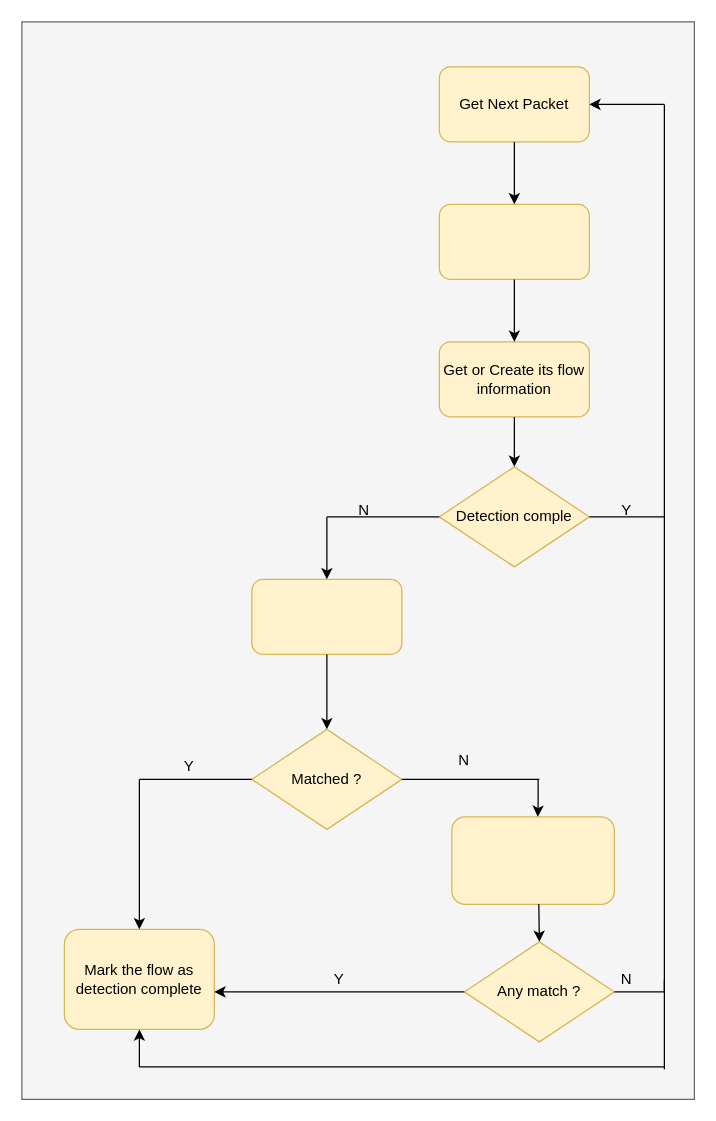
Some shapes in this 716 by 1121 pixel diagram are drawn without their labels. The box of each missing label's shape, as (x1, y1, x2, y2) in pixels:
Decode The Packet: (438, 203, 589, 279)
Interate all related protocol parsers: (451, 816, 614, 904)
Try the flow's guessed protocol parser: (251, 578, 402, 654)
